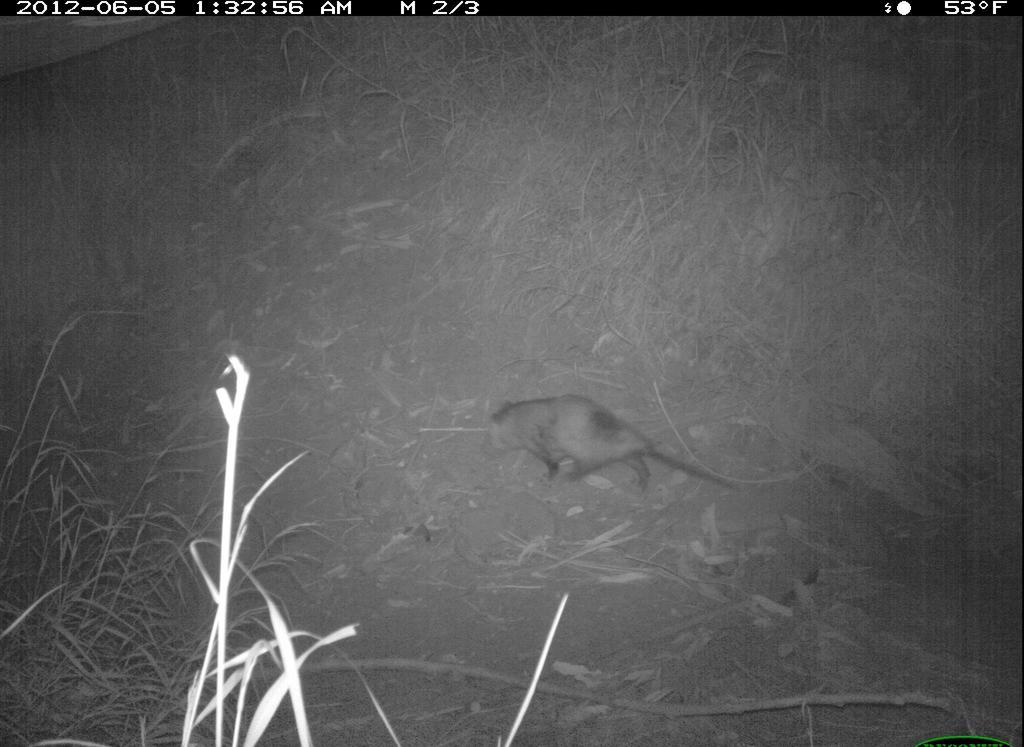opossum: (486, 388, 767, 516)
